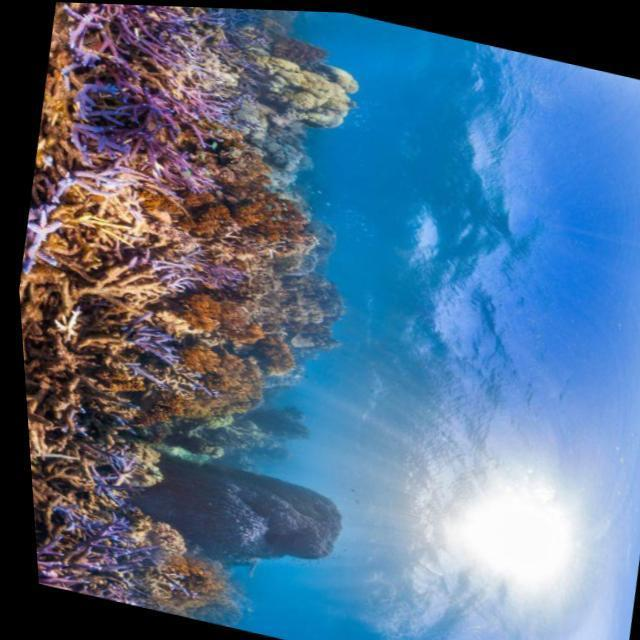Dead Coral: (15, 296, 144, 438), (23, 438, 95, 513)
